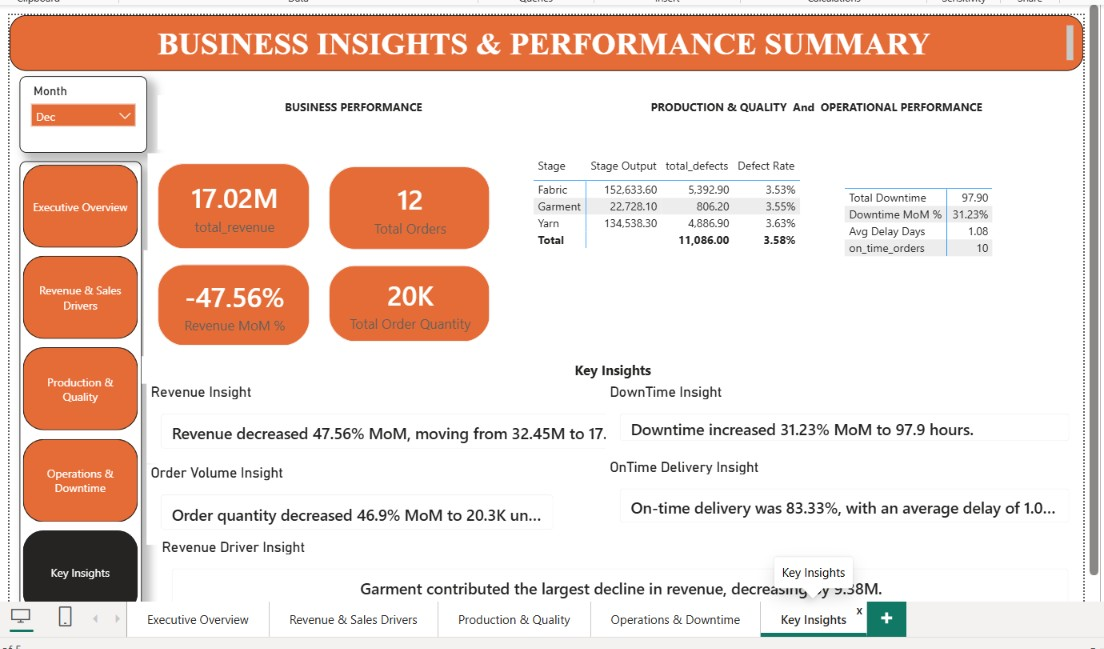

What the dashboard file says about the page in this screenshot:
{"tool":"powerbi","page":{"name":"Key Insights","canvas":[1280,720],"ordinal":4},"visuals":[{"type":"pageNavigator","box":[12.4,174.5,145.6,545.4],"z":0},{"type":"slicer","fields":{"Values":["Date.Month"]},"box":[11.7,72.7,151.9,90.9],"z":1000},{"type":"cardVisual","fields":{"Data":["measure.Total Orders"]},"box":[363.3,163.3,226.7,133.3],"z":2000},{"type":"cardVisual","fields":{"Data":["measure.Revenue MoM %"]},"box":[160,280,215,131.7],"z":3000},{"type":"cardVisual","fields":{"Data":["measure.total_revenue"]},"box":[160,160,215,136.7],"z":4000},{"type":"cardVisual","fields":{"Data":["measure.Total Order Quantity"]},"box":[363.3,281.7,226.7,125],"z":5000},{"type":"pivotTable","fields":{"Rows":["Dim_Products.Stage"],"Values":["measure.Stage Output","measure.total_defects","measure.defect_rate"]},"box":[620,163.3,343.3,228.3],"z":6000},{"type":"pivotTable","fields":{"Values":["measure.Total Downtime","measure.Downtime MoM %","measure.Avg Delay Days","measure.on_time_orders"]},"box":[990,173.3,290,218.3],"z":7000},{"type":"textbox","box":[176.7,95,463.3,65],"z":8000},{"type":"textbox","box":[640,95,640,65],"z":9000},{"type":"textbox","box":[157.1,406.5,1123.4,32.5],"z":10000},{"type":"textbox","box":[0,0,1280,66.7],"z":11000},{"type":"cardVisual","title":"Revenue Insight","fields":{"Data":["measure.Revenue Insight"]},"box":[163.6,439,609.1,96.1],"z":12000},{"type":"cardVisual","title":"DownTime Insight","fields":{"Data":["measure.Downtime Insight"]},"box":[710,438.3,570,86.7],"z":13000},{"type":"cardVisual","title":"OnTime Delivery Insight","fields":{"Data":["measure.Delivery Insight"]},"box":[710,528.3,570,95],"z":14000},{"type":"cardVisual","title":"Order Volume Insight","fields":{"Data":["measure.Order Volume Insight"]},"box":[163.6,535.1,502.6,96.1],"z":15000},{"type":"cardVisual","title":"Revenue Driver Insight","fields":{"Data":["measure.Revenue Driver Insight"]},"box":[176.7,623.3,1103.3,96.7],"z":16000}]}

Visuals, with their boxes on the page's 1280x720 design canvas (x1, y1, x2, y2). These are canvas units, not pixel positions in the 1104x649 screenshot, which may show the page scaled, cropped or inside an application window:
pageNavigator: select_region(12, 174, 158, 720)
slicer - Date.Month: select_region(12, 73, 164, 164)
cardVisual - measure.Total Orders: select_region(363, 163, 590, 297)
cardVisual - measure.Revenue MoM %: select_region(160, 280, 375, 412)
cardVisual - measure.total_revenue: select_region(160, 160, 375, 297)
cardVisual - measure.Total Order Quantity: select_region(363, 282, 590, 407)
pivotTable - Dim_Products.Stage x measure.Stage Output: select_region(620, 163, 963, 392)
pivotTable - measure.Total Downtime x measure.Downtime MoM %: select_region(990, 173, 1280, 392)
textbox: select_region(177, 95, 640, 160)
textbox: select_region(640, 95, 1280, 160)
textbox: select_region(157, 406, 1280, 439)
textbox: select_region(0, 0, 1280, 67)
"Revenue Insight" cardVisual: select_region(164, 439, 773, 535)
"DownTime Insight" cardVisual: select_region(710, 438, 1280, 525)
"OnTime Delivery Insight" cardVisual: select_region(710, 528, 1280, 623)
"Order Volume Insight" cardVisual: select_region(164, 535, 666, 631)
"Revenue Driver Insight" cardVisual: select_region(177, 623, 1280, 720)
